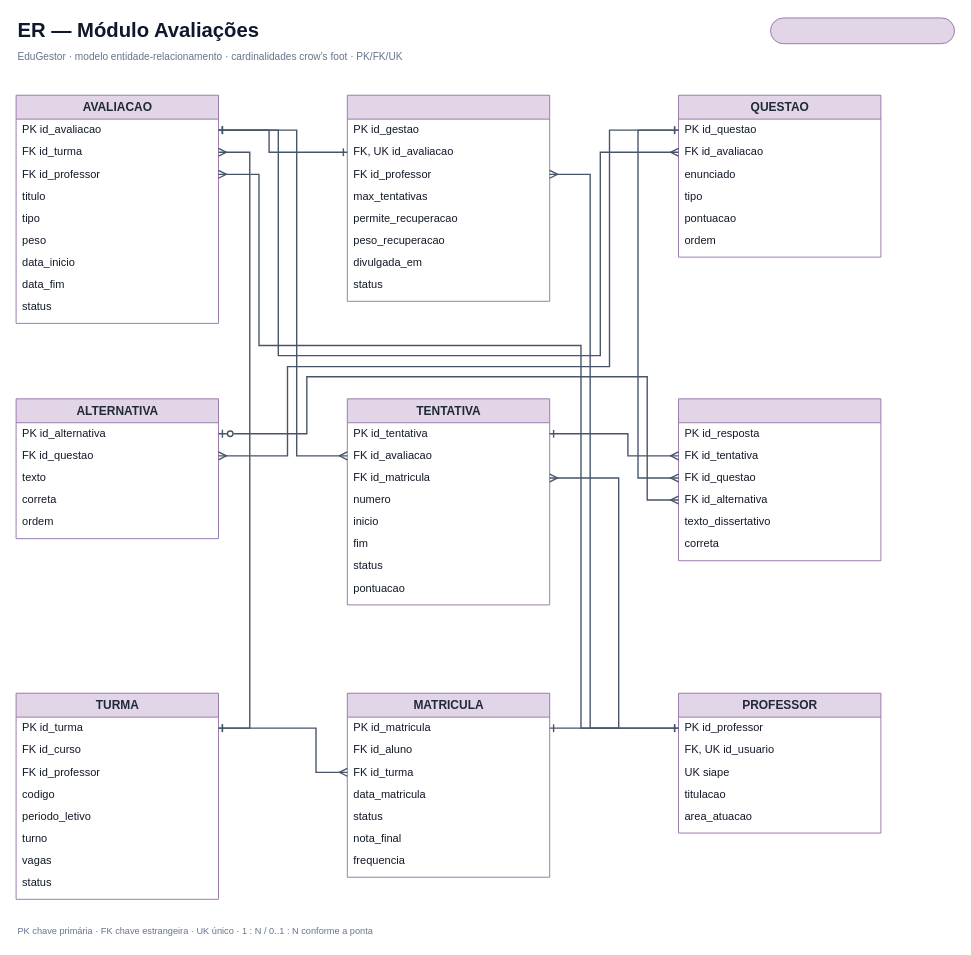
Some shapes in this 971 by 955 pixel diagram are drawn without their labels. Here are the shapes that lost their labels. From the top down, the box of each, then its label:
(770, 17, 954, 44): Módulo Avaliações
(346, 94, 550, 301): GESTAO_AVALIACAO
(678, 398, 881, 561): RESPOSTA_ALUNO
